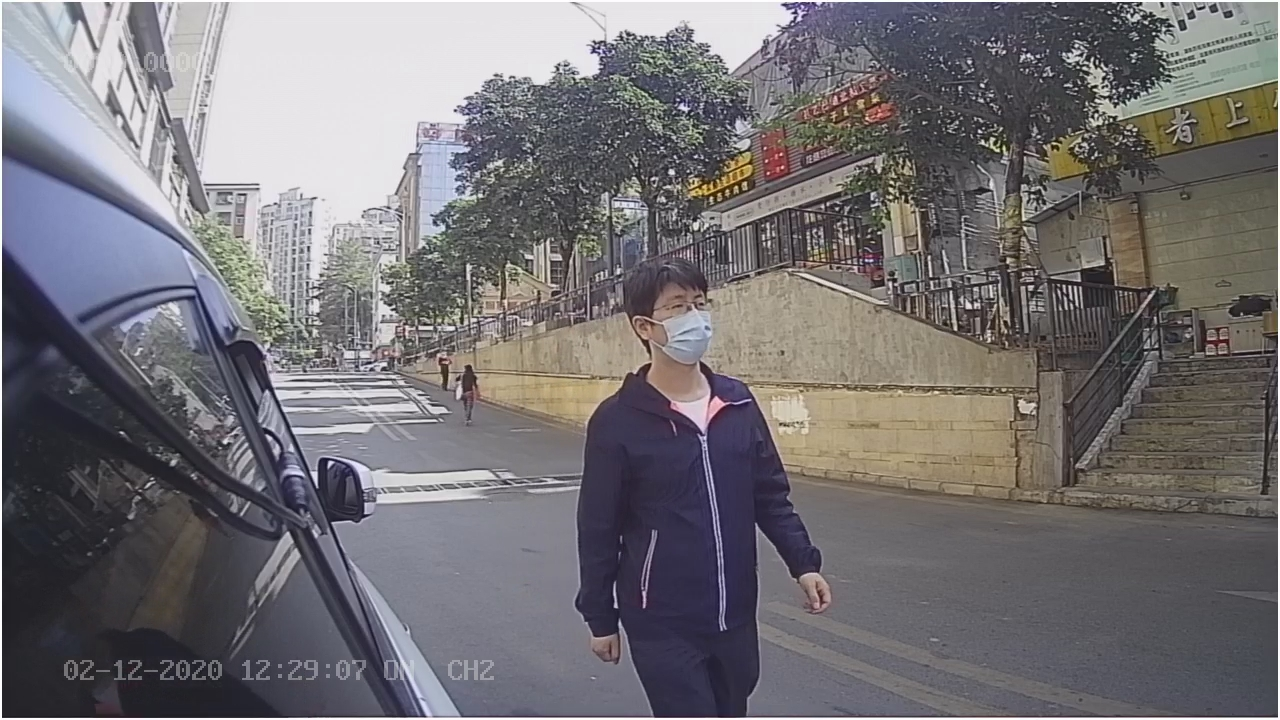person: (575, 240, 838, 662)
